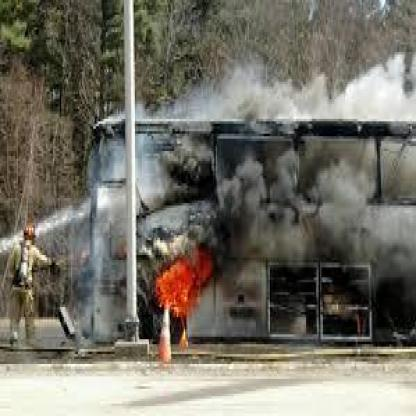fire: (149, 239, 223, 317)
smoke: (141, 62, 410, 252)
